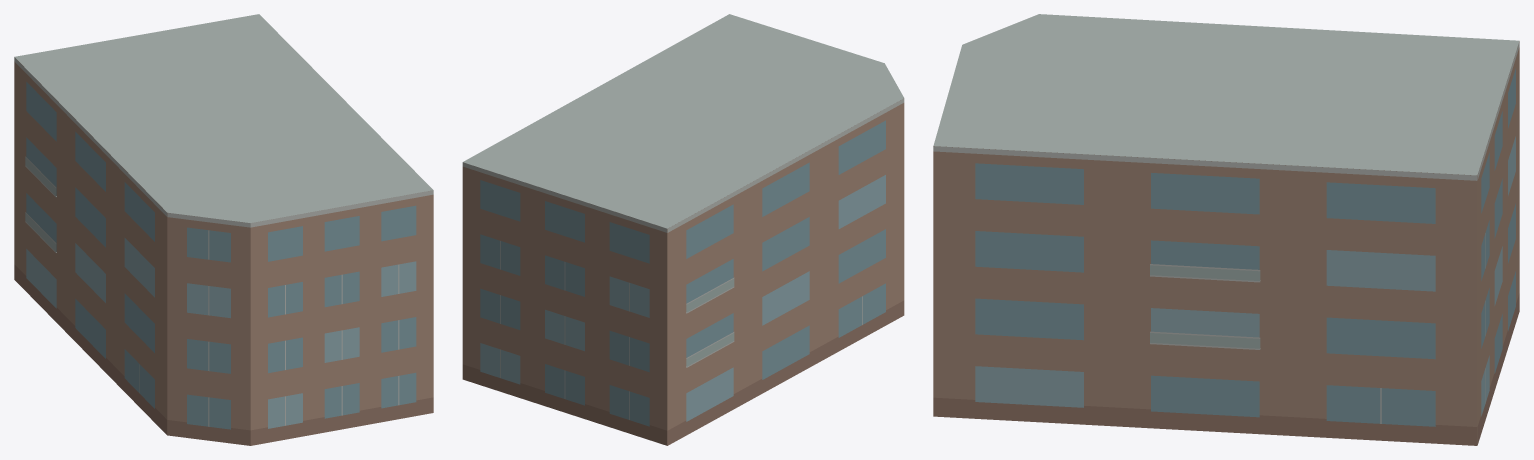
The model's file is residential-f97e1a50-3a1e-4621-90ca-262b7dbc2fe2.glb.
3 views of the same model, side by side, from view 1: azimuth 30°, elevation 25°; view 2: azimuth 150°, elevation 25°; view 3: azimuth 270°, elevation 25° (orthographic). The views are drawn at different scales.
Visible parts, largest first — view 1: residential-f97e1a50-3a1e-4621-90ca-262b7dbc2fe2.tmp; view 2: residential-f97e1a50-3a1e-4621-90ca-262b7dbc2fe2.tmp; view 3: residential-f97e1a50-3a1e-4621-90ca-262b7dbc2fe2.tmp.
Boxes of the visible parts, x1,y1,x2,y2 form: residential-f97e1a50-3a1e-4621-90ca-262b7dbc2fe2.tmp: [14, 14, 433, 445]; residential-f97e1a50-3a1e-4621-90ca-262b7dbc2fe2.tmp: [462, 14, 904, 445]; residential-f97e1a50-3a1e-4621-90ca-262b7dbc2fe2.tmp: [933, 14, 1519, 445].
Size of the model in its own units: 15.63 by 12.2 by 23.98.
